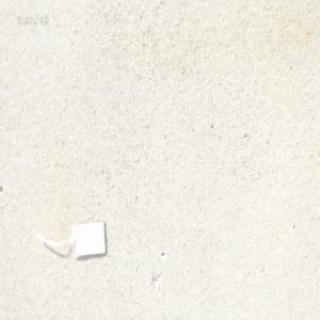LuggageTagtrack_idkeyframe: (33, 215, 107, 260)
